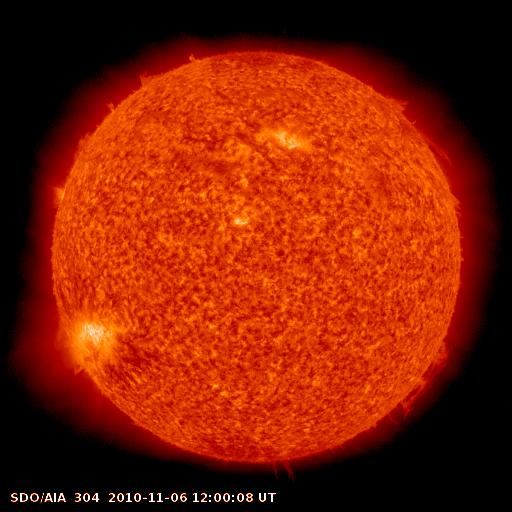prominence: (386, 328, 461, 430), (377, 79, 462, 167), (93, 63, 170, 114), (442, 187, 479, 268), (35, 171, 70, 217), (252, 455, 301, 486), (65, 125, 103, 156), (181, 37, 210, 70)
